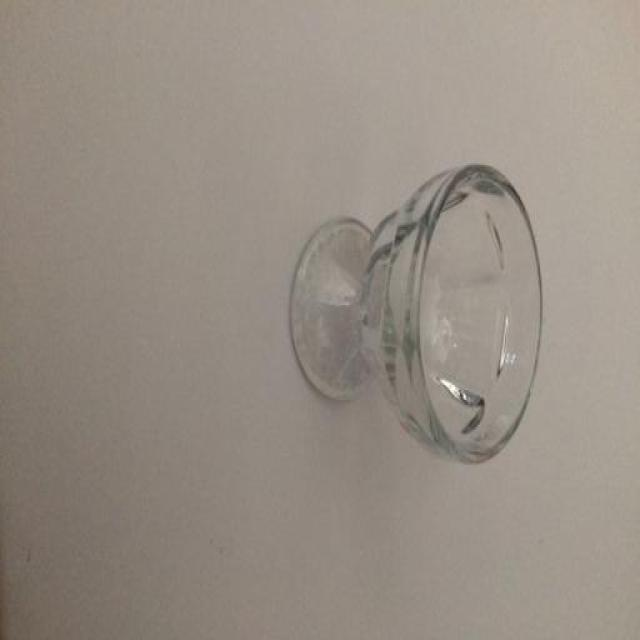glass: (290, 165, 544, 467)
